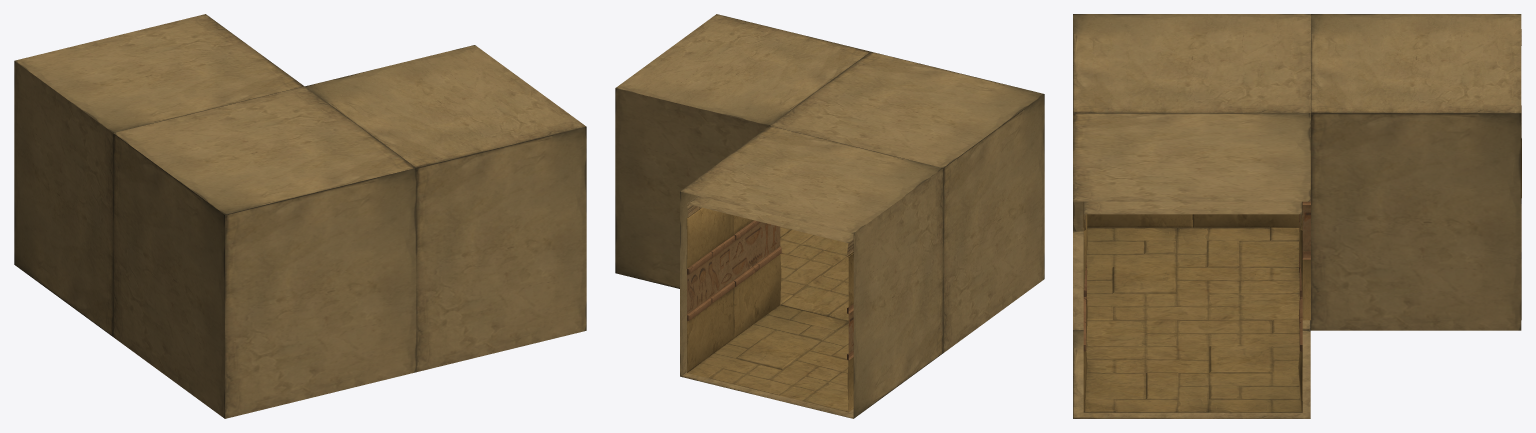
The model's file is m_Corner01.FBX.
3 renders of one model, left to right at view 1: azimuth 30°, elevation 25°; view 2: azimuth 150°, elevation 25°; view 3: azimuth 270°, elevation 25°, orthographic. The views are drawn at different scales.
Visible parts, largest first — view 1: m_Corner01; view 2: m_Corner01; view 3: m_Corner01.
Part boxes in pixels (x1,y1,x2,y2): m_Corner01: [14, 14, 586, 418]; m_Corner01: [615, 14, 1044, 418]; m_Corner01: [1073, 14, 1521, 418].
Bounding box in the file's own units: 203 × 205 × 109.
Materials: 1 (1 with a texture image).
